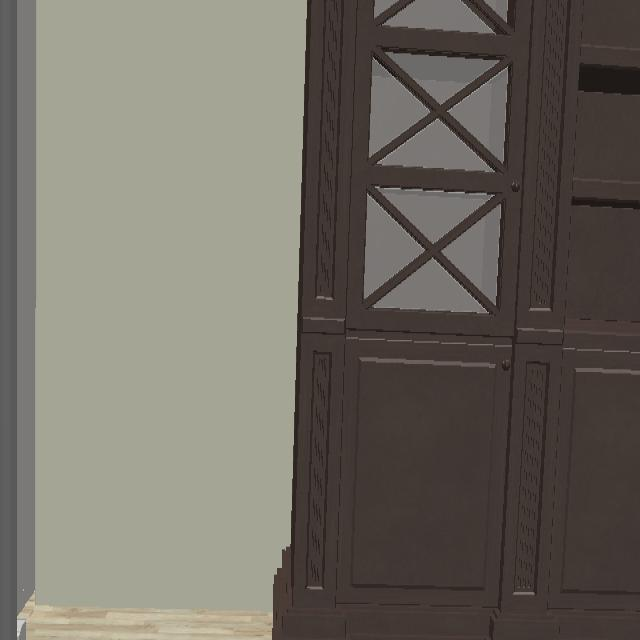bookshelf: (271, 0, 640, 640)
